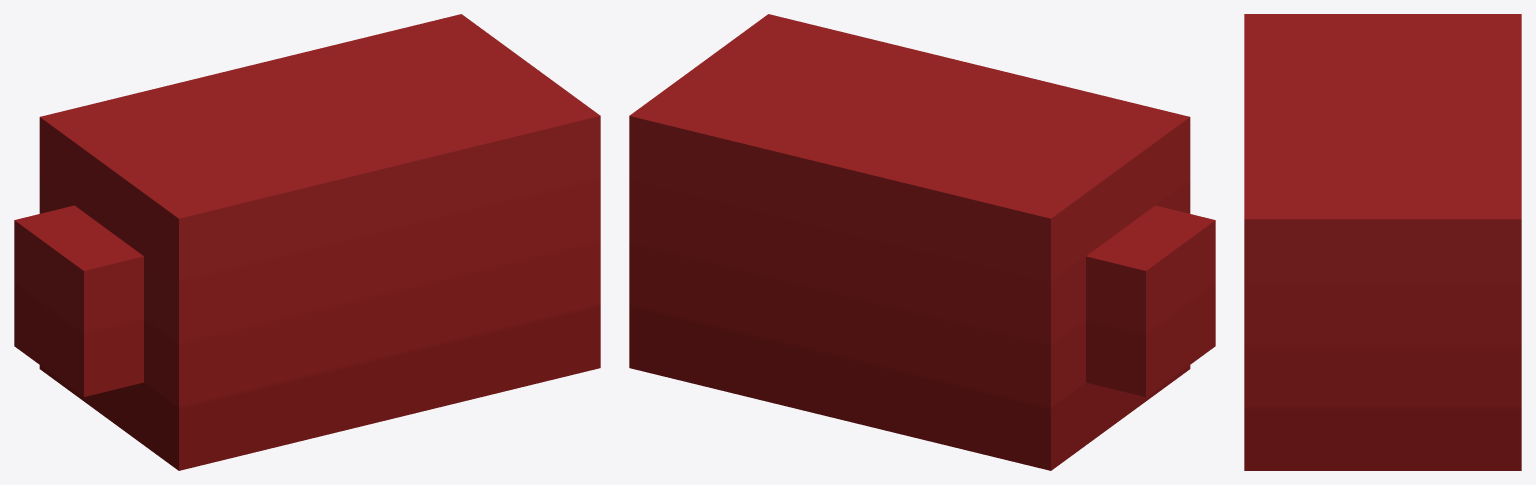
File: Shoulder047.fbx
3 renders of one model, left to right at view 1: azimuth 30°, elevation 25°; view 2: azimuth 150°, elevation 25°; view 3: azimuth 270°, elevation 25°, orthographic.
Parts seen in each view (by area): view 1: Shoulder047; view 2: Shoulder047; view 3: Shoulder047.
Part boxes in pixels (bbox=[...]): Shoulder047: bbox=[14, 14, 600, 470]; Shoulder047: bbox=[629, 14, 1215, 470]; Shoulder047: bbox=[1244, 14, 1521, 470].
Size of the model in its own units: 8 by 4 by 4.
